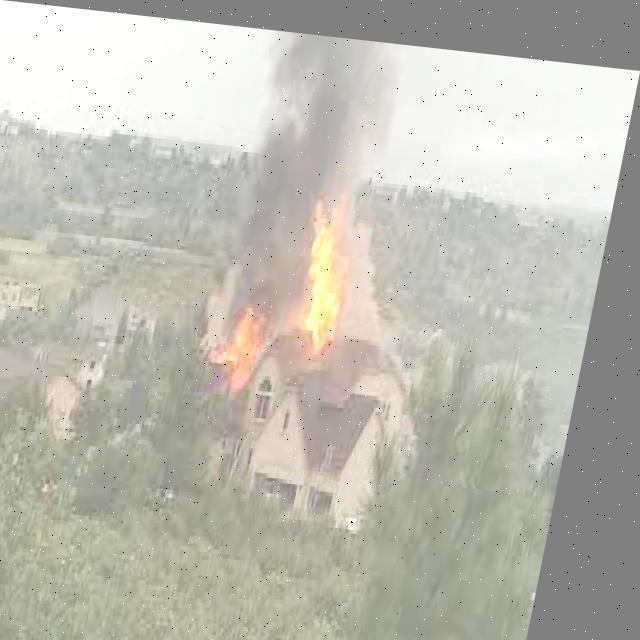Fire: (288, 178, 391, 356), (199, 278, 290, 390)
